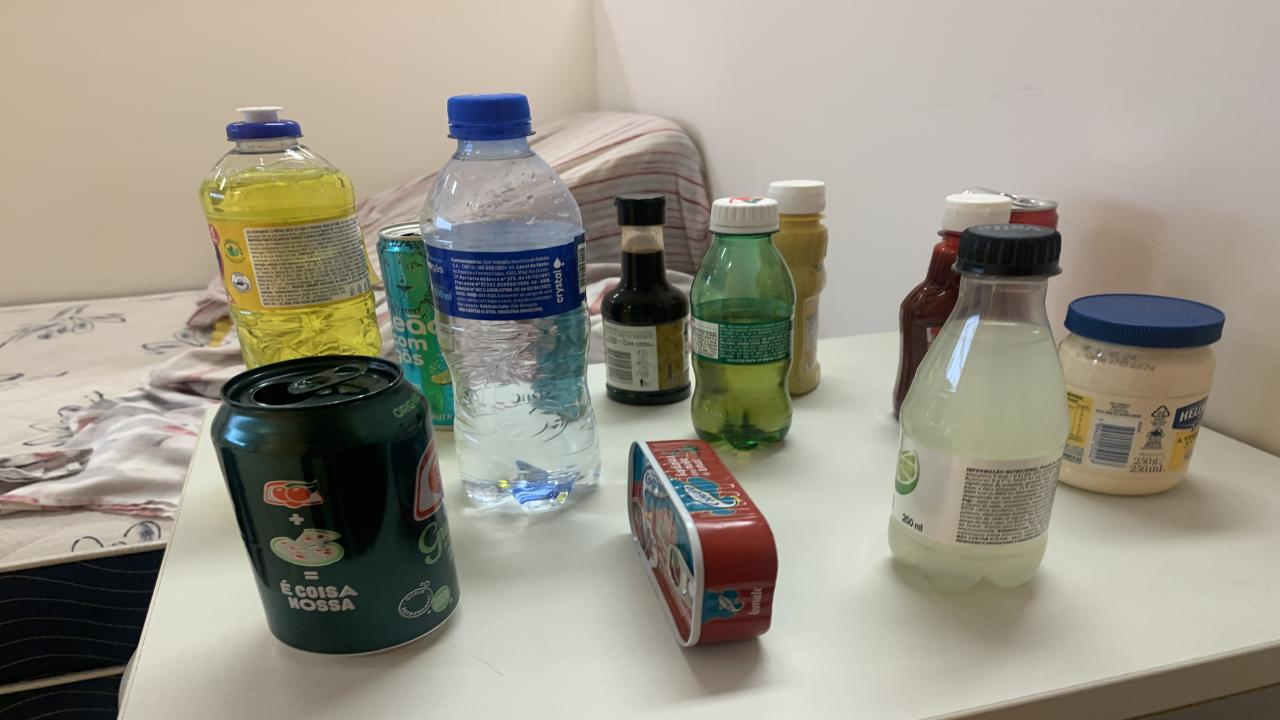Coke-Drinks: (965, 188, 1058, 229)
Detergent-Cleanup_Items: (200, 107, 380, 368)
English_Sauce-Pantry_Items: (600, 193, 690, 405)
Guarana-Drinks: (690, 197, 795, 448)
Guarana_Can-Drinks: (212, 354, 460, 654)
Ketchup-Pantry_Items: (892, 193, 1012, 416)
Mayonnaise-Pantry_Items: (1060, 294, 1225, 495)
Mustard-Pantry_Items: (768, 180, 828, 394)
Soda-Drinks: (890, 223, 1070, 589)
Tea-Drinks: (378, 221, 455, 428)
Tuna_Can-Pantry_Items: (628, 441, 778, 647)
Water_Bottle-Drinks: (420, 94, 600, 512)
